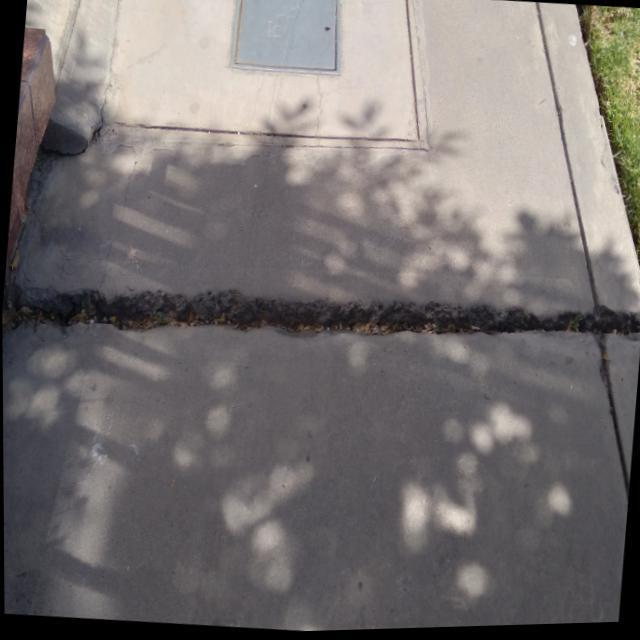hole: (1, 255, 639, 387)
